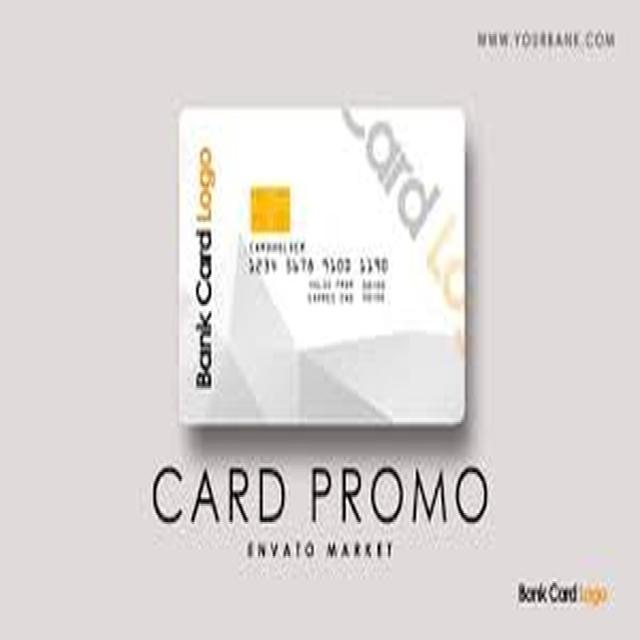card: (161, 82, 482, 434)
